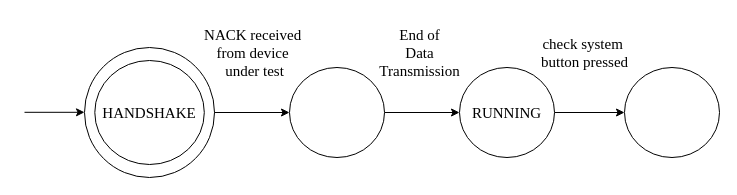
Image size: 737x195. Some labels were removed from this diagram. The shapes that lost their labels are listed below. From the top down, each one's box as (x1, y1, x2, y2) in pixels, then its label:
(288, 66, 384, 158): NOMINAL
(624, 66, 720, 158): SYSTEM CHECK
